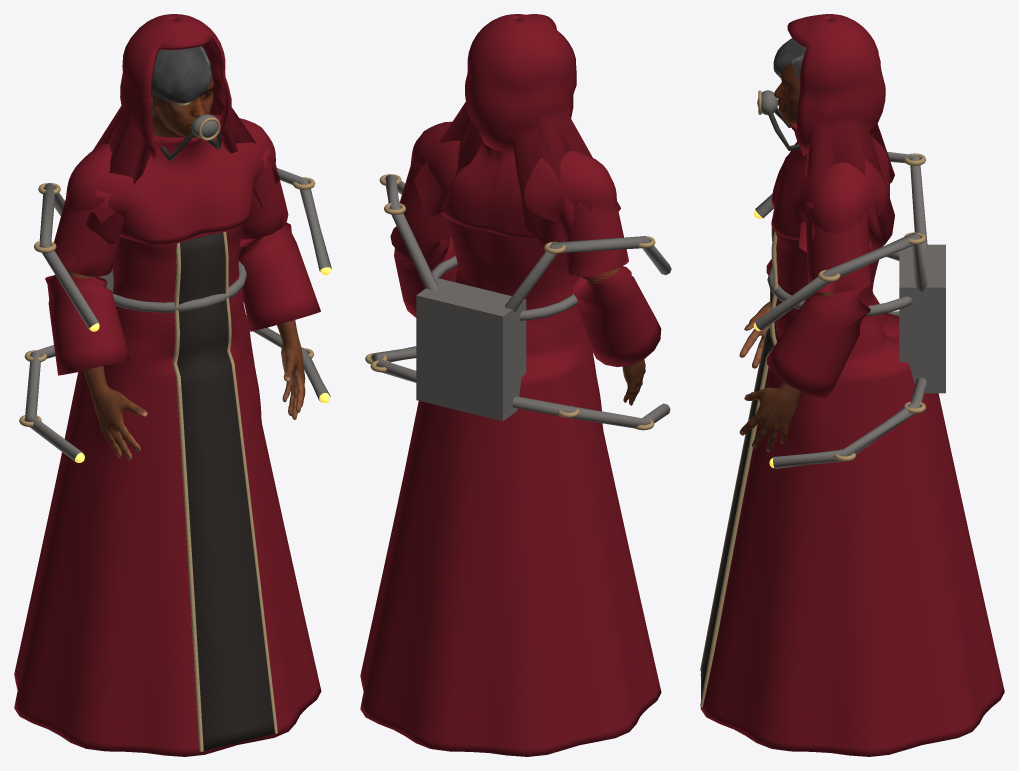
Rendered from crew_workshop_chief.glb.
3 renders of one model, left to right at view 1: azimuth 30°, elevation 25°; view 2: azimuth 150°, elevation 25°; view 3: azimuth 270°, elevation 25°, orthographic.
Visible parts, largest first — view 1: robe, tabard, mantle, hood, sleeve.001, sleeve, Human, Human.short03, tabard_edge, dendrite.001, tabard_edge.001, dendrite.003 (+3 smaller); view 2: robe, hood, engine, mantle, sleeve.001, sleeve, dendrite.001, dendrite.003, dendrite, belt, dendrite.002, Human; view 3: robe, hood, sleeve, mantle, engine, Human, dendrite, tabard_edge.001, dendrite.002, tabard, dendrite.001, belt (+2 smaller).
Part boxes in pixels (x1,y1,x2,y2): robe: (14,224,321,756); tabard: (177,232,274,750); mantle: (65,114,275,244); hood: (86,14,280,244); sleeve.001: (45,190,130,375); sleeve: (238,148,320,331); Human: (67,65,305,459); Human.short03: (151,46,212,118); tabard_edge: (172,242,203,751); dendrite.001: (39,183,99,329); tabard_edge.001: (223,231,277,733); dendrite.003: (24,345,83,462); robe: (360,217,661,756); hood: (414,14,620,244); engine: (416,278,526,421); mantle: (410,121,616,239); sleeve.001: (564,201,661,367); sleeve: (390,162,457,317); dendrite.001: (505,236,671,311); dendrite.003: (512,396,670,428); dendrite: (385,174,438,289); belt: (431,256,581,320); dendrite.002: (370,346,416,382); Human: (586,268,645,405); robe: (700,233,1004,756); hood: (787,14,894,252); sleeve: (766,202,870,397); mantle: (771,123,889,240); engine: (899,244,945,393); Human: (739,62,835,452); dendrite: (755,232,927,330); tabard_edge.001: (700,231,777,707); dendrite.002: (773,377,926,468); tabard: (701,228,776,699); dendrite.001: (755,152,927,249); belt: (767,245,912,316).
Size of the model in its own units: 0.858 by 1.93 by 0.7828.
Materials: 12 (5 with a texture image).
